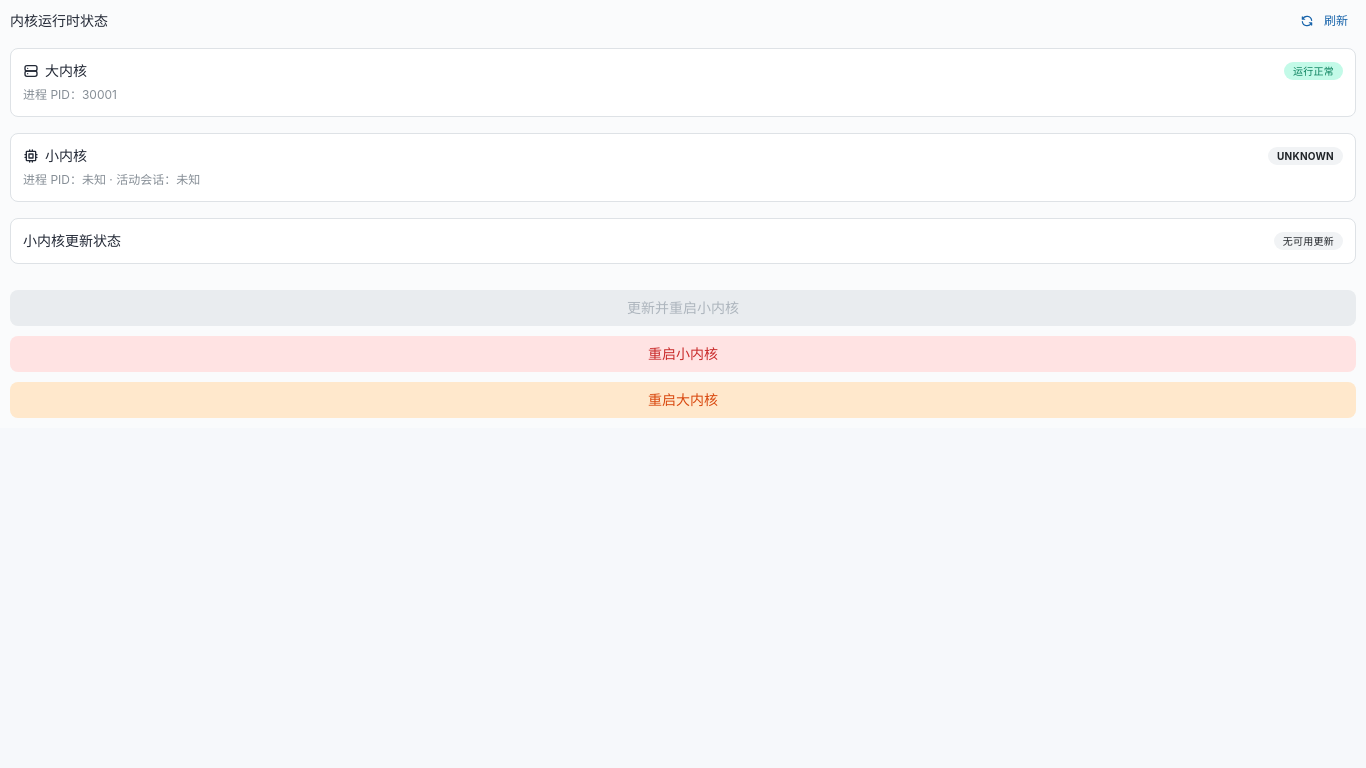
KernelManagementPanel › warns about unknown session state when daemon state is unknown or active_sessions is missing
The width and height of the screenshot is (1366, 768).
Click the button "重启小内核": (683, 354) [10,336,1356,372]
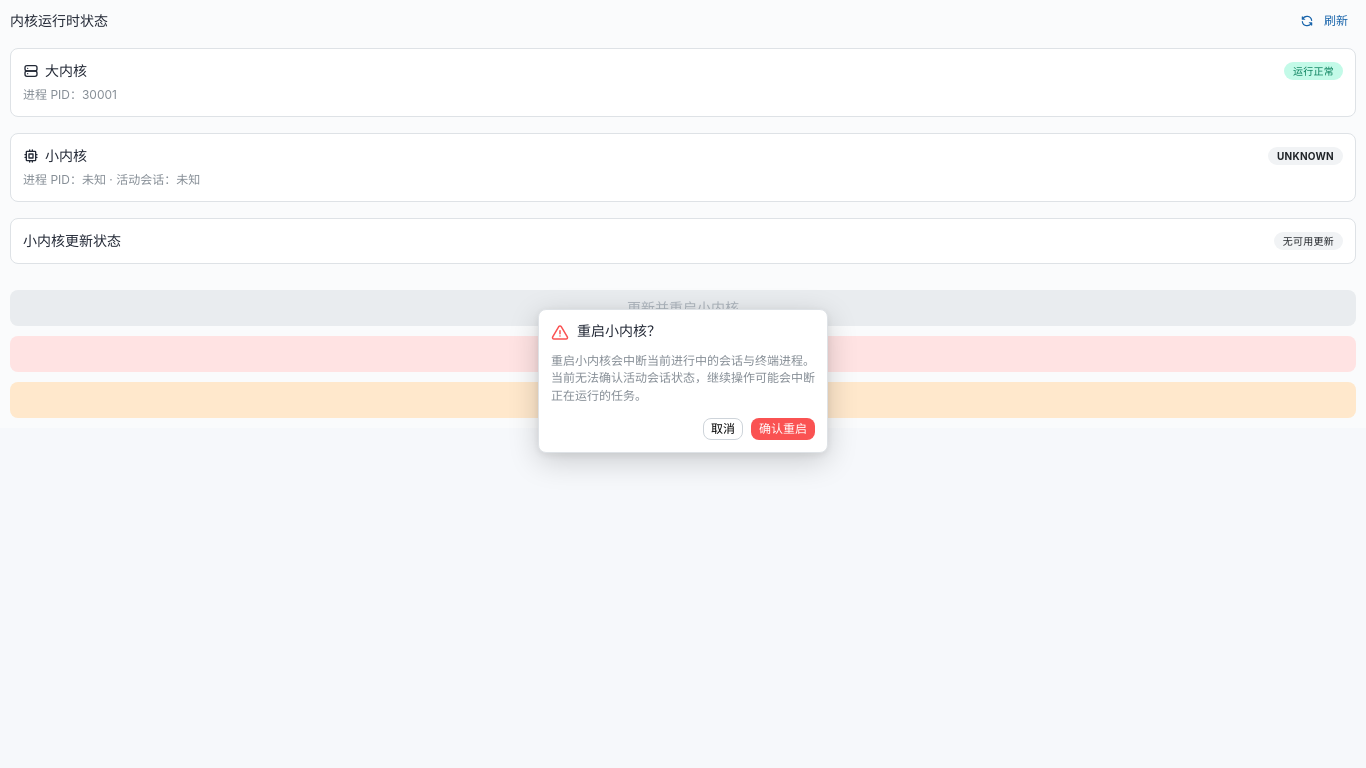
Result: the dialog "重启小内核？" shows "无法确认" at [551,353,815,403]
Result: the dialog "重启小内核？" shows "中断" at [538,309,828,453]
